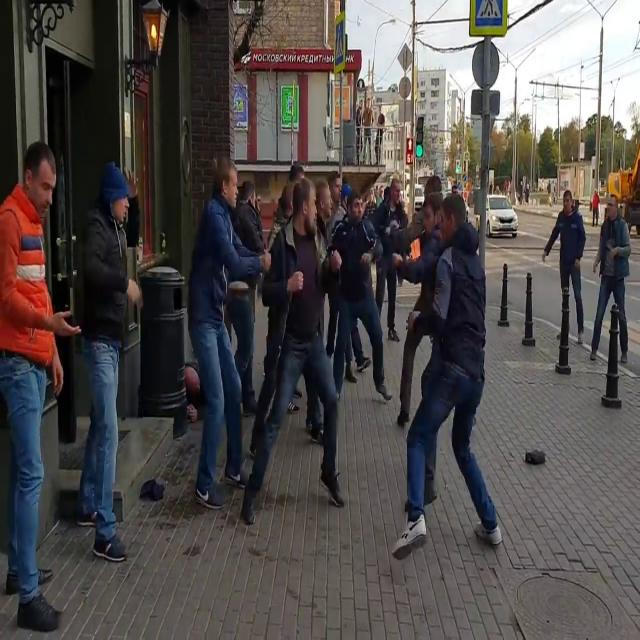non_violence: (0, 141, 71, 626), (184, 157, 259, 518), (80, 163, 142, 564), (592, 191, 632, 365), (550, 183, 588, 349)
violence: (263, 180, 342, 500), (332, 188, 415, 404)
